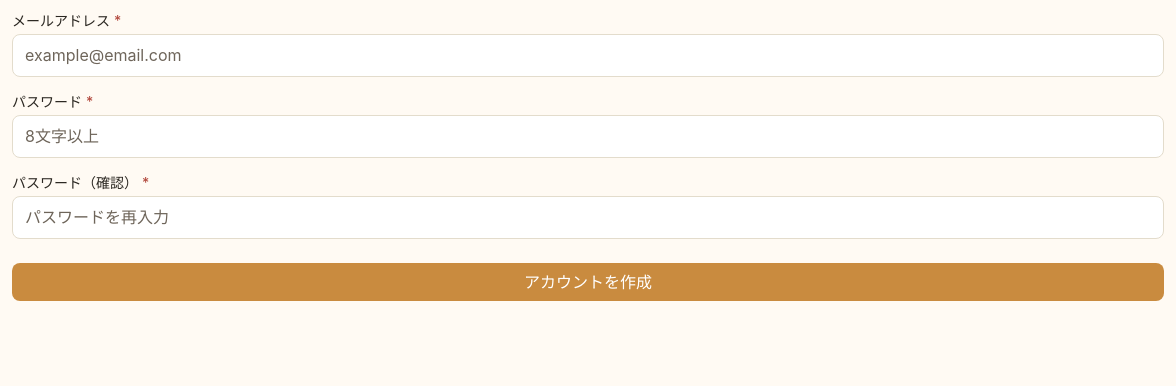
Test: SignupForm › Server Action エラーハンドリング › root エラー時にエラーメッセージが画面に表示される
The width and height of the screenshot is (1176, 386).
In the field labelled "メールアドレス*": (588, 55) [13,34,1163,76], type "test@example.com"
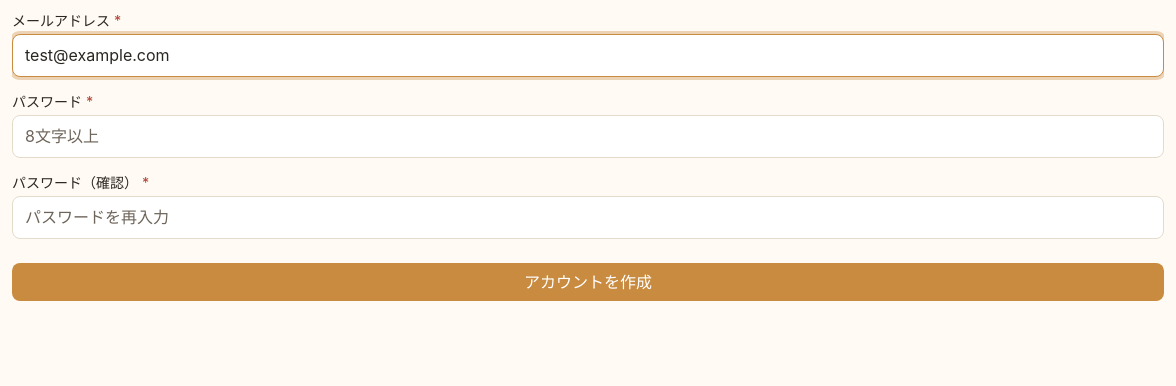
In the password field named "password": (588, 136) [13,116,1163,157], type "password123"
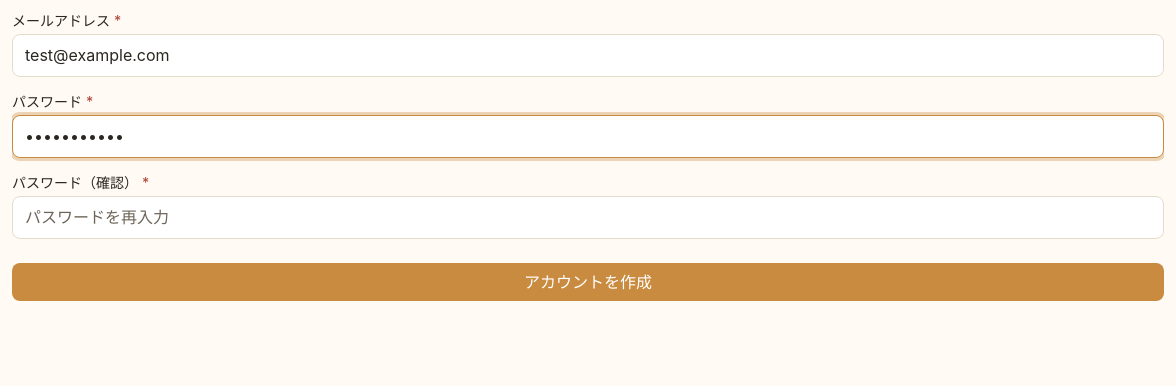
In the password field labelled "パスワード（確認）*": (588, 218) [13,197,1163,238], type "password123"
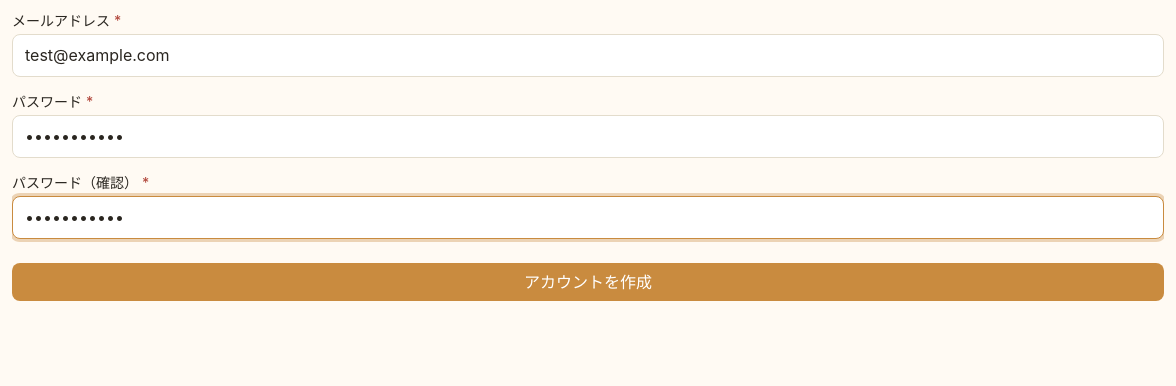
Click the button "アカウントを作成": (588, 282) [12,263,1164,301]
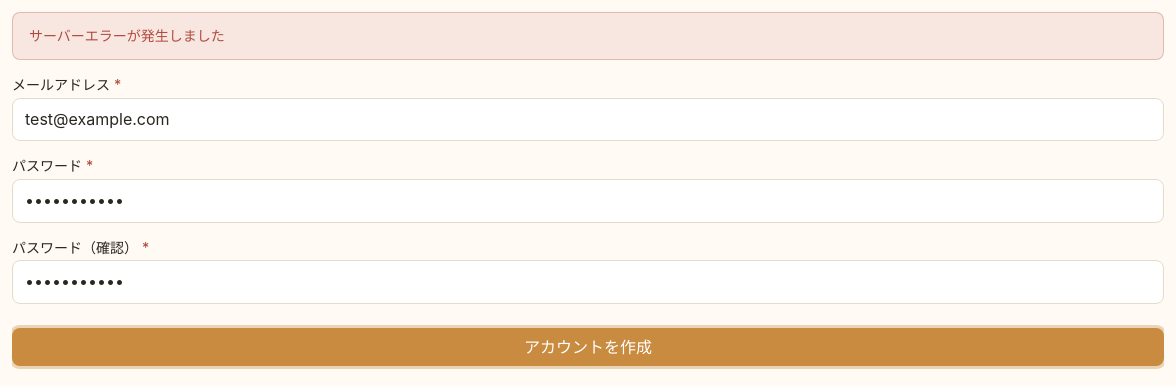
Now the text "サーバーエラーが発生しました" is shown, box [12,12,1164,60]
